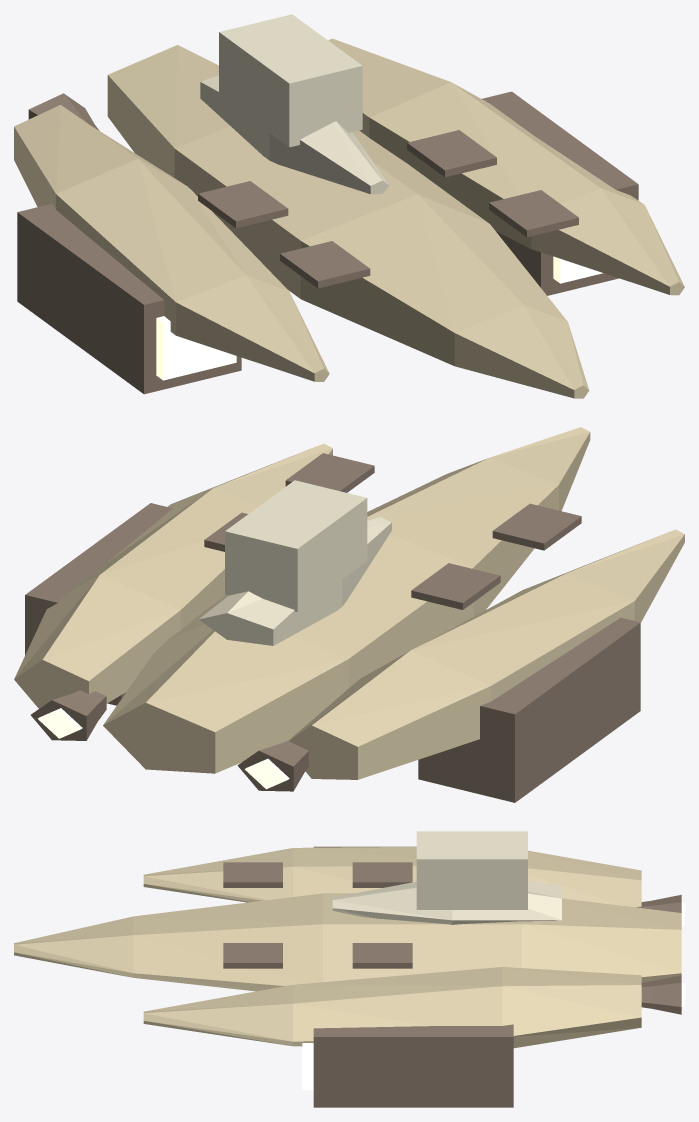
3 renders of one model, top to bottom at view 1: azimuth 30°, elevation 25°; view 2: azimuth 150°, elevation 25°; view 3: azimuth 270°, elevation 25°, orthographic. The views are drawn at different scales.
Size of the model in its own units: 16.22 by 6.63 by 24.12.
